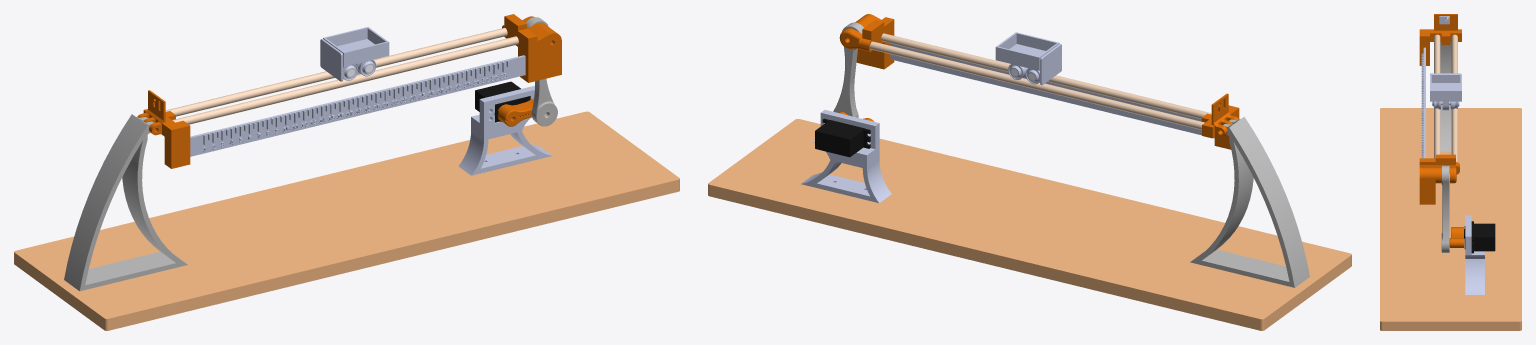
File: BALL_AND_BEAM_ASSEMBLY.glb
The picture shows the model from 3 angles, left to right: view 1: azimuth 30°, elevation 25°; view 2: azimuth 150°, elevation 25°; view 3: azimuth 270°, elevation 25°; orthographic projection. The views are drawn at different scales.
Visible parts, largest first — view 1: Base-1, Hinge Tower-1, Regla-1, Base de Servo-1, Dowel-1, Dowel-2, Beam End-1, Beam Hinge-1, Caja de peso-1, Coupler-1, Servo MG996R-1, Cart Shield-1 (+1 smaller); view 2: Base-1, Hinge Tower-1, Base de Servo-1, Dowel-2, Regla-1, Dowel-1, Beam End-1, Servo MG996R-1, Caja de peso-1, Beam Hinge-1, Coupler-1, Cart Shield-1; view 3: Base-1, Beam End-1, Base de Servo-1, Beam Hinge-1, Caja de peso-1, Hinge Tower-1, Servo MG996R-1, Coupler-1, Dowel-2, Dowel-1, Regla-1, Crank-1.
Boxes of the visible parts, left/top/right/bottom form: Base-1: left=14, top=111, right=679, bottom=330; Hinge Tower-1: left=64, top=114, right=187, bottom=291; Regla-1: left=190, top=55, right=525, bottom=156; Base de Servo-1: left=458, top=85, right=552, bottom=175; Dowel-1: left=172, top=36, right=518, bottom=124; Dowel-2: left=165, top=27, right=507, bottom=116; Beam End-1: left=502, top=14, right=561, bottom=82; Beam Hinge-1: left=137, top=90, right=190, bottom=168; Caja de peso-1: left=323, top=27, right=389, bottom=66; Coupler-1: left=526, top=17, right=557, bottom=126; Servo MG996R-1: left=475, top=81, right=530, bottom=122; Cart Shield-1: left=320, top=39, right=343, bottom=81; Base-1: left=708, top=119, right=1351, bottom=330; Hinge Tower-1: left=1190, top=116, right=1309, bottom=287; Base de Servo-1: left=801, top=110, right=891, bottom=203; Dowel-2: left=870, top=41, right=1204, bottom=129; Regla-1: left=890, top=43, right=1214, bottom=138; Dowel-1: left=881, top=33, right=1211, bottom=118; Beam End-1: left=839, top=14, right=894, bottom=69; Servo MG996R-1: left=815, top=118, right=870, bottom=157; Caja de peso-1: left=995, top=32, right=1059, bottom=70; Beam Hinge-1: left=1201, top=93, right=1239, bottom=149; Coupler-1: left=833, top=22, right=863, bottom=117; Cart Shield-1: left=1040, top=44, right=1061, bottom=85; Base-1: left=1380, top=108, right=1521, bottom=330; Beam End-1: left=1419, top=154, right=1459, bottom=204; Base de Servo-1: left=1465, top=215, right=1484, bottom=294; Beam Hinge-1: left=1419, top=14, right=1461, bottom=65; Caja de peso-1: left=1430, top=74, right=1461, bottom=101; Hinge Tower-1: left=1440, top=42, right=1451, bottom=151; Servo MG996R-1: left=1464, top=221, right=1495, bottom=253; Coupler-1: left=1441, top=165, right=1449, bottom=252; Dowel-2: left=1451, top=34, right=1457, bottom=162; Dowel-1: left=1434, top=34, right=1440, bottom=158; Regla-1: left=1421, top=47, right=1425, bottom=158; Crank-1: left=1449, top=227, right=1463, bottom=247.
Bounding box in the file's own units: 0.635 × 0.1987 × 0.1778.
